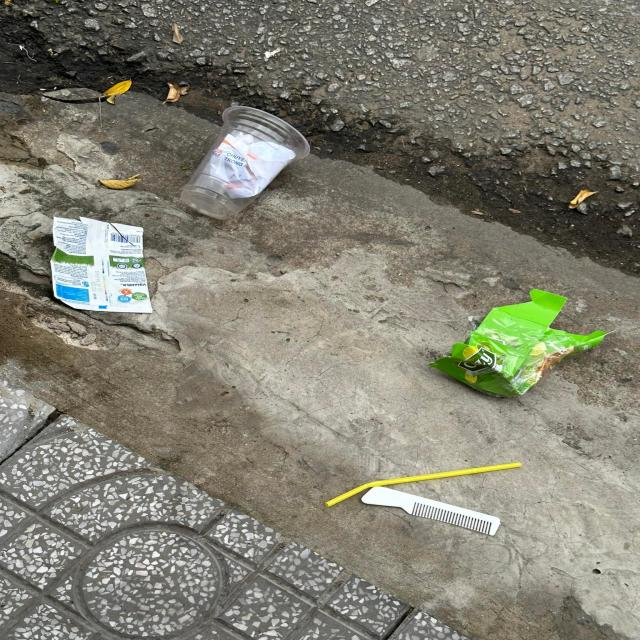cardboard box: (427, 290, 617, 400)
drinking straw: (322, 462, 521, 509)
packet: (51, 217, 153, 313)
plastic glass: (180, 105, 310, 218)
